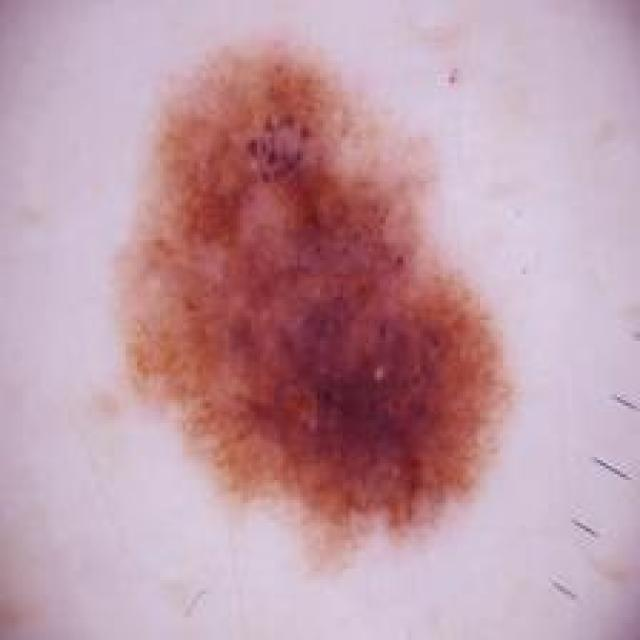Cancer: (109, 31, 514, 568)
